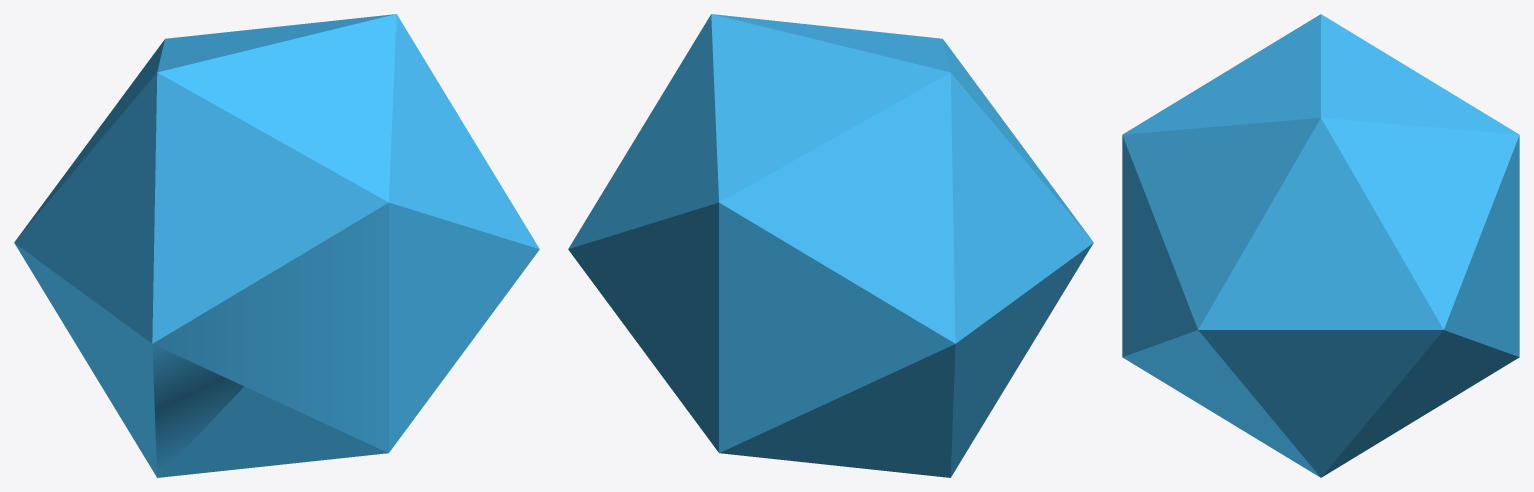
Rendered from center.obj.
3 renders of one model, left to right at view 1: azimuth 30°, elevation 25°; view 2: azimuth 150°, elevation 25°; view 3: azimuth 270°, elevation 25°, orthographic. The views are drawn at different scales.
Parts seen in each view (by area): view 1: 000_Polyhedron_-_baked; view 2: 000_Polyhedron_-_baked; view 3: 000_Polyhedron_-_baked.
Boxes of the visible parts, x1,y1,x2,y2 form: 000_Polyhedron_-_baked: (14,14,539,477); 000_Polyhedron_-_baked: (568,14,1093,477); 000_Polyhedron_-_baked: (1122,14,1519,477).
Bounding box in the file's own units: 14.3 × 14.3 × 14.3.
